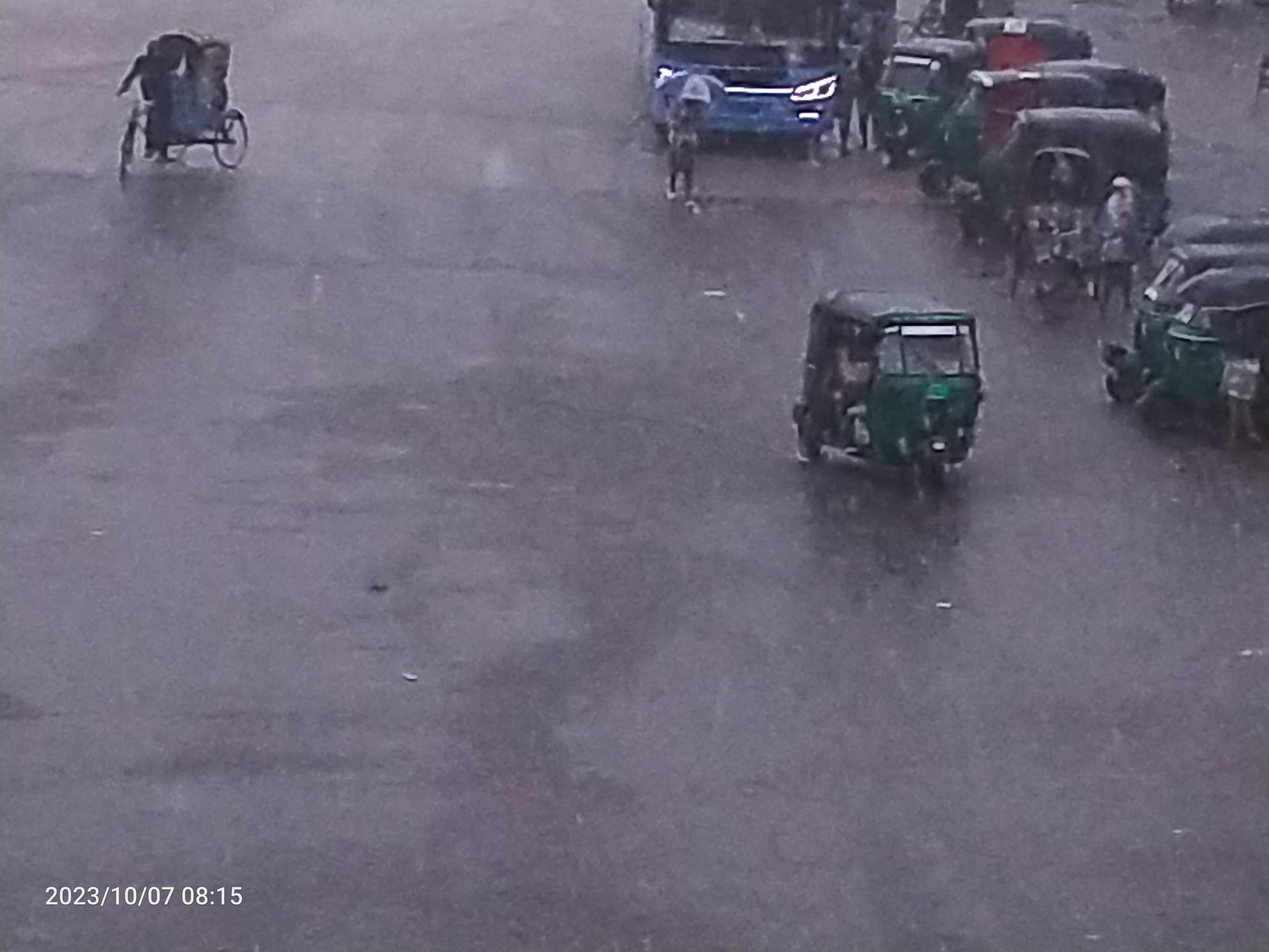Bus: (622, 0, 869, 182)
Car: (59, 0, 349, 202)
